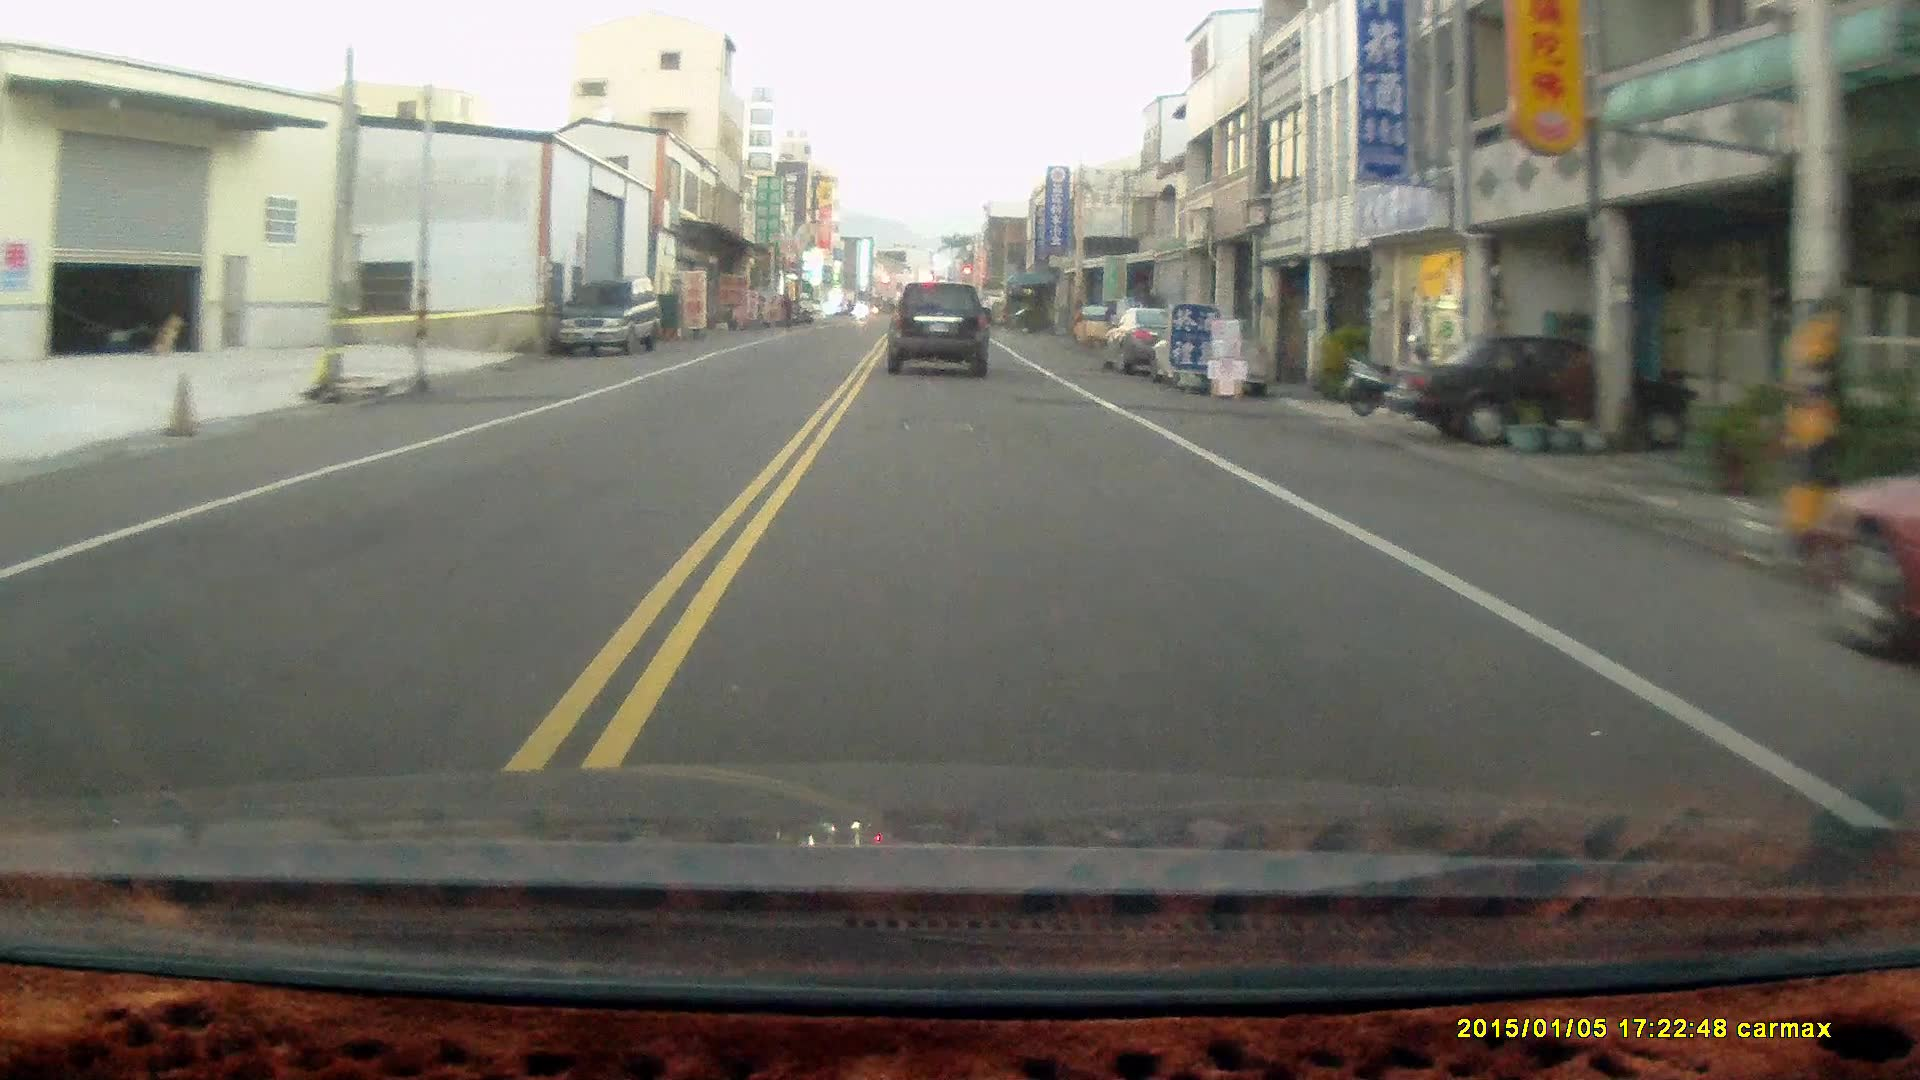vehicle: (1389, 335, 1717, 448), (1789, 409, 1920, 670), (887, 284, 993, 381), (1155, 316, 1275, 402), (556, 280, 666, 360)
